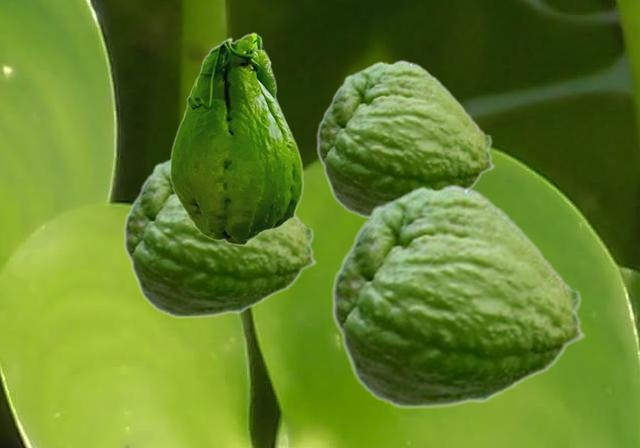sayote: (331, 183, 586, 409), (123, 156, 317, 318), (169, 32, 303, 245), (316, 59, 495, 218)
